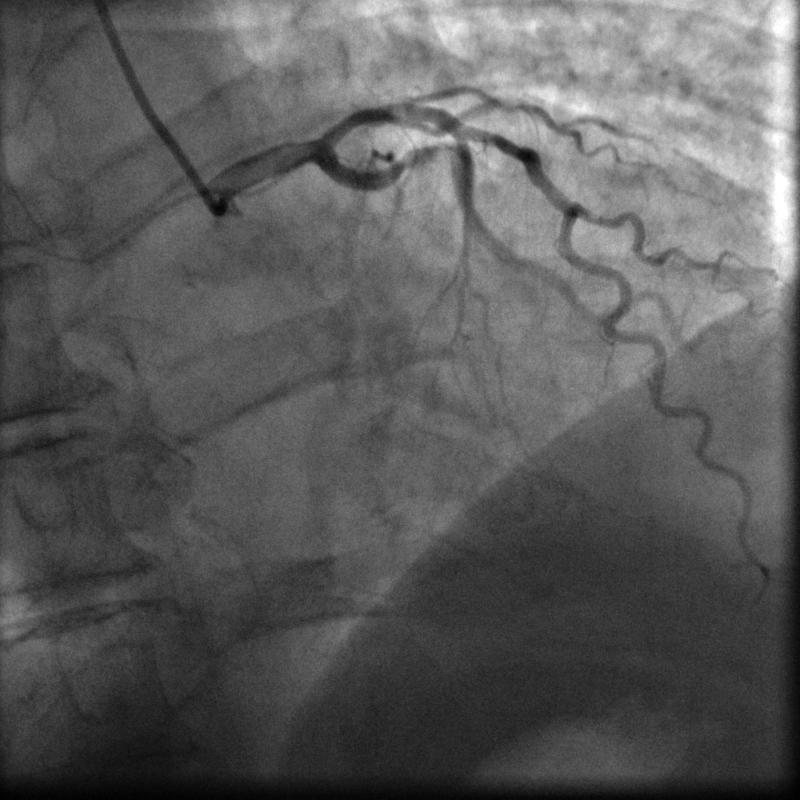Stenosis: (399, 137, 459, 166)
